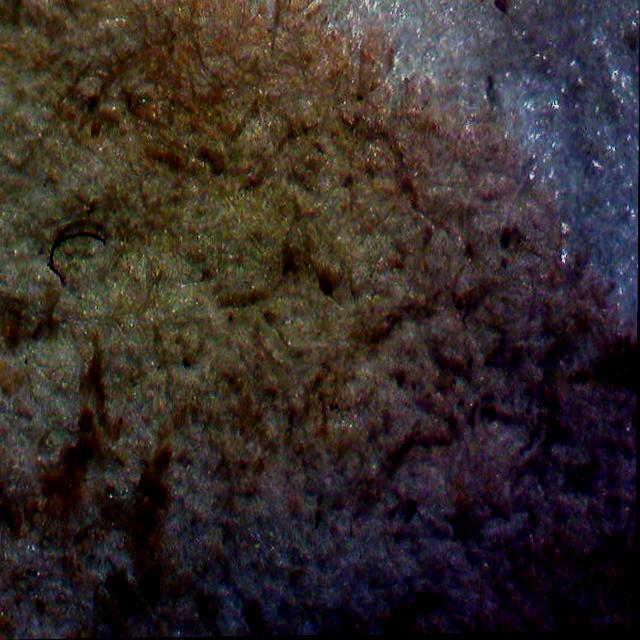microplastic: (49, 229, 107, 286)
